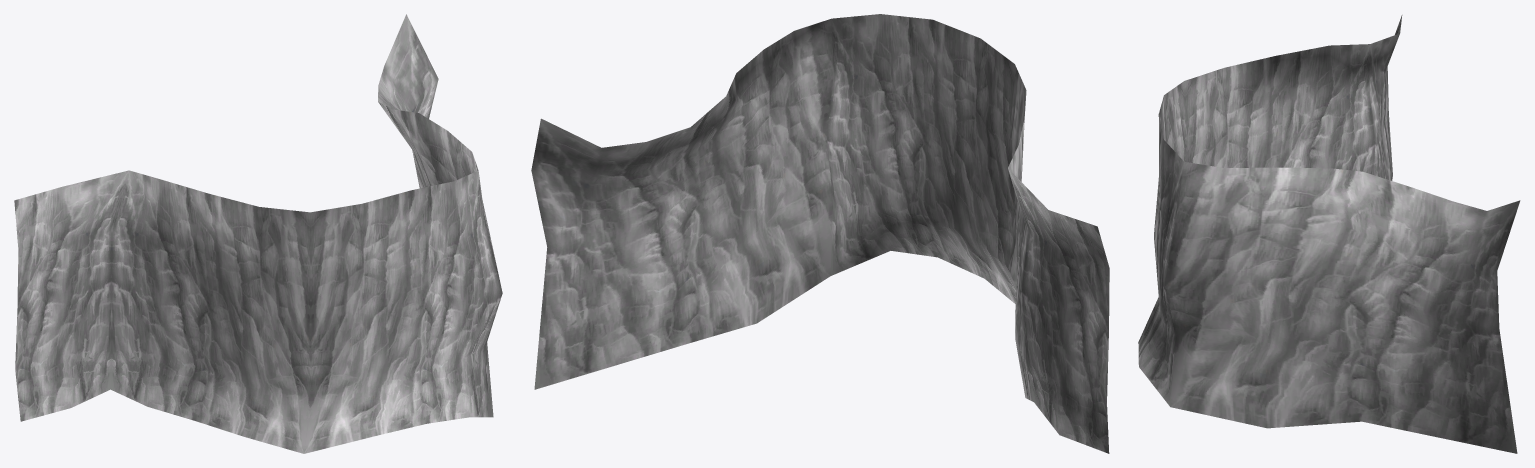
Rendered from SWORDLIGHT20_PS-AREA03_178.fbx.
The picture shows the model from 3 angles, left to right: view 1: azimuth 30°, elevation 25°; view 2: azimuth 150°, elevation 25°; view 3: azimuth 270°, elevation 25°; orthographic projection. The views are drawn at different scales.
Parts seen in each view (by area): view 1: SWORDLIGHT20_PS-AREA03_178; view 2: SWORDLIGHT20_PS-AREA03_178; view 3: SWORDLIGHT20_PS-AREA03_178.
Part boxes in pixels (left/top/right/bottom): SWORDLIGHT20_PS-AREA03_178: left=14, top=14, right=502, bottom=453; SWORDLIGHT20_PS-AREA03_178: left=531, top=14, right=1109, bottom=453; SWORDLIGHT20_PS-AREA03_178: left=1138, top=15, right=1520, bottom=453.
Size of the model in its own units: 103457 by 55057 by 72517.
Materials: 1 (1 with a texture image).
